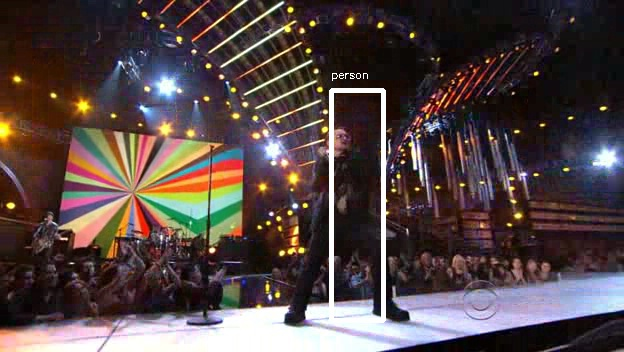person: (307, 125, 373, 246), (304, 125, 370, 246), (310, 125, 376, 246), (307, 122, 373, 243), (307, 128, 373, 249)
target_negative: (79, 229, 475, 263), (141, 41, 272, 77), (541, 285, 563, 336), (373, 283, 468, 290), (204, 82, 441, 84), (555, 265, 569, 291)
